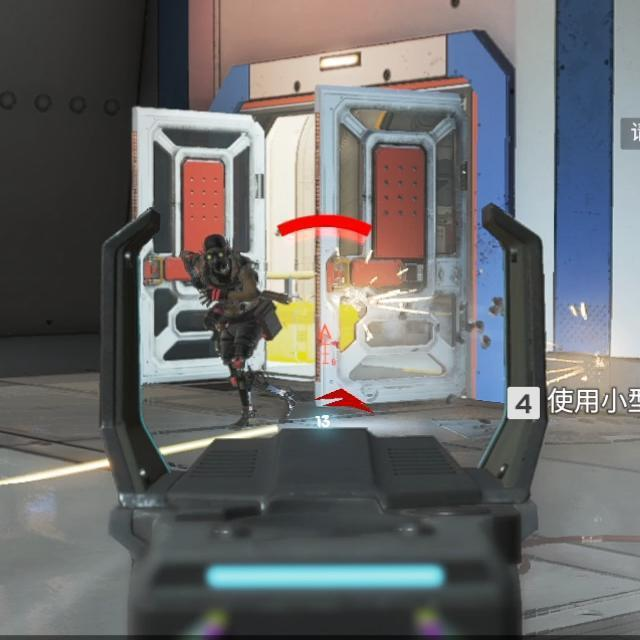avatar: (179, 231, 282, 432)
